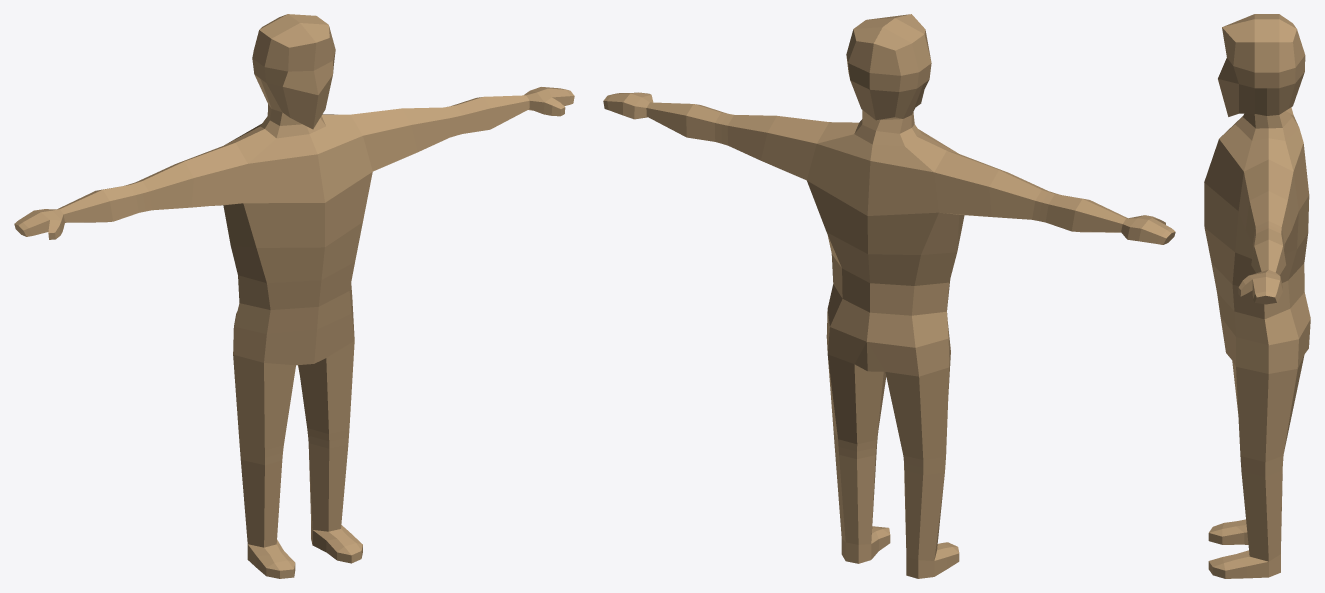
Rendered from BaseMesh_Test.fbx.
3 renders of one model, left to right at view 1: azimuth 30°, elevation 25°; view 2: azimuth 150°, elevation 25°; view 3: azimuth 270°, elevation 25°, orthographic. The views are drawn at different scales.
Visible parts, largest first — view 1: Cylinder.001; view 2: Cylinder.001; view 3: Cylinder.001.
Boxes of the visible parts, left/top/right/bottom form: Cylinder.001: left=14, top=14, right=574, bottom=578; Cylinder.001: left=603, top=14, right=1175, bottom=578; Cylinder.001: left=1204, top=14, right=1310, bottom=578.
Size of the model in its own units: 1.73 by 1.59 by 0.2862.
